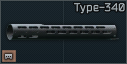SOK-12 Custom Guns Type-340 handguard: (0, 0, 127, 64)
